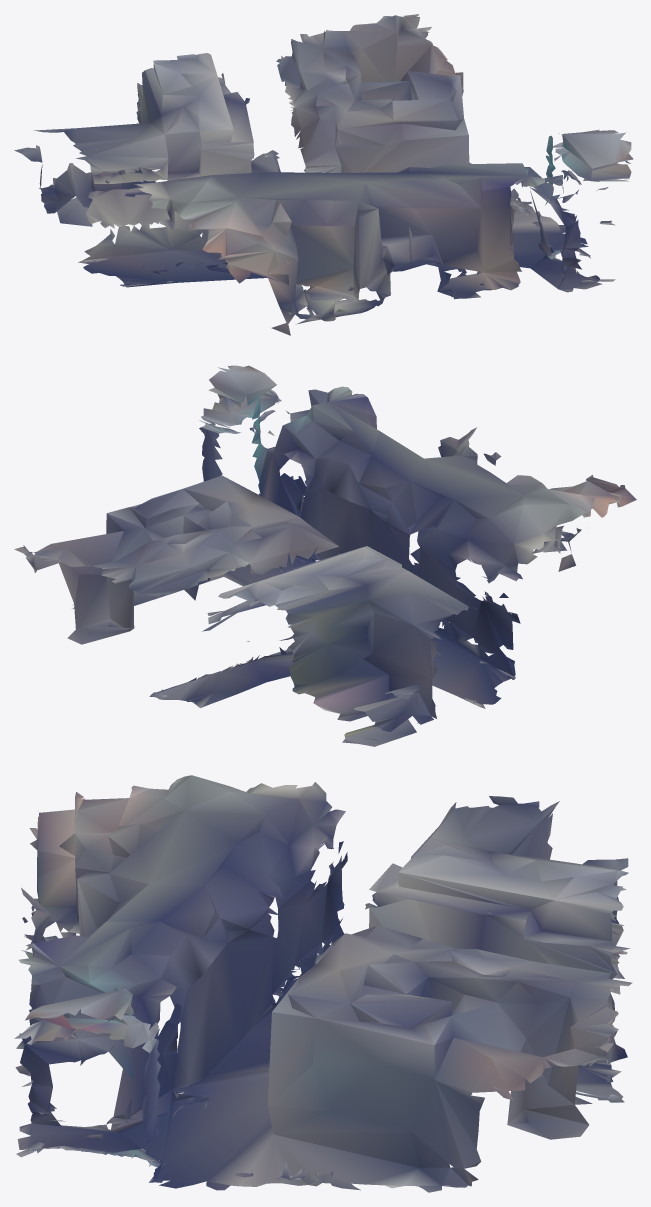
3 renders of one model, top to bottom at view 1: azimuth 30°, elevation 25°; view 2: azimuth 150°, elevation 25°; view 3: azimuth 270°, elevation 25°, orthographic. The views are drawn at different scales.
Size of the model in its own units: 108 by 34.39 by 108.
